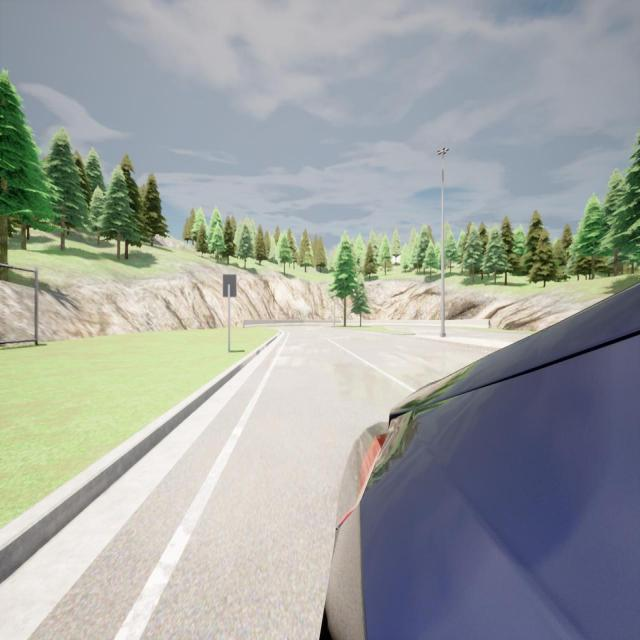Traffic_Signs: (223, 276, 236, 298)
Vehicle: (326, 284, 640, 638)
